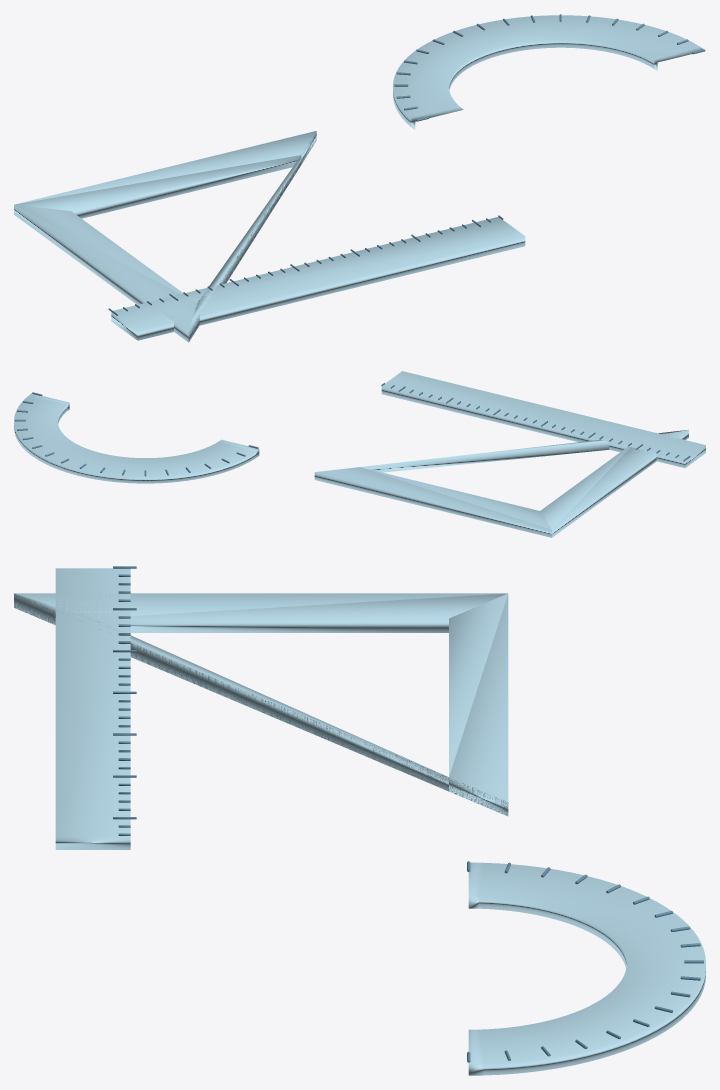
The model's file is drawing_tools.glb.
3 views of the same model, one above another, from view 1: azimuth 30°, elevation 25°; view 2: azimuth 150°, elevation 25°; view 3: azimuth 270°, elevation 25° (orthographic). The views are drawn at different scales.
Parts seen in each view (by area): view 1: Straight_Ruler, Protractor, Set_Square_Bar_1, Set_Square_Bar_3, Set_Square_Bar_0, Set_Square_Bar_2, Set_Square_Bar_4, Set_Square_Bar_5; view 2: Straight_Ruler, Protractor, Set_Square_Bar_0, Set_Square_Bar_4, Set_Square_Bar_3, Set_Square_Bar_1, Set_Square_Bar_2; view 3: Protractor, Straight_Ruler, Set_Square_Bar_2, Set_Square_Bar_0, Set_Square_Bar_4, Set_Square_Bar_3, Set_Square_Bar_1, Set_Square_Bar_5.
Boxes of the visible parts, x1,y1,x2,y2 form: Straight_Ruler: (111, 217, 525, 340); Protractor: (393, 15, 705, 129); Set_Square_Bar_1: (15, 155, 300, 218); Set_Square_Bar_3: (14, 205, 196, 342); Set_Square_Bar_0: (16, 131, 316, 204); Set_Square_Bar_2: (14, 204, 191, 299); Set_Square_Bar_4: (188, 156, 301, 342); Set_Square_Bar_5: (189, 133, 316, 339); Straight_Ruler: (381, 371, 705, 467); Protractor: (14, 393, 259, 483); Set_Square_Bar_0: (314, 467, 551, 537); Set_Square_Bar_4: (360, 430, 686, 472); Set_Square_Bar_3: (552, 430, 688, 537); Set_Square_Bar_1: (361, 467, 551, 529); Set_Square_Bar_2: (540, 446, 630, 529); Protractor: (468, 862, 705, 1075); Straight_Ruler: (55, 568, 130, 849); Set_Square_Bar_2: (110, 593, 507, 632); Set_Square_Bar_0: (449, 594, 508, 816); Set_Square_Bar_4: (14, 593, 448, 791); Set_Square_Bar_3: (14, 593, 506, 617); Set_Square_Bar_1: (449, 593, 507, 776); Set_Square_Bar_5: (14, 594, 508, 815).
Size of the model in its own units: 0.5904 by 0.009 by 0.35.
